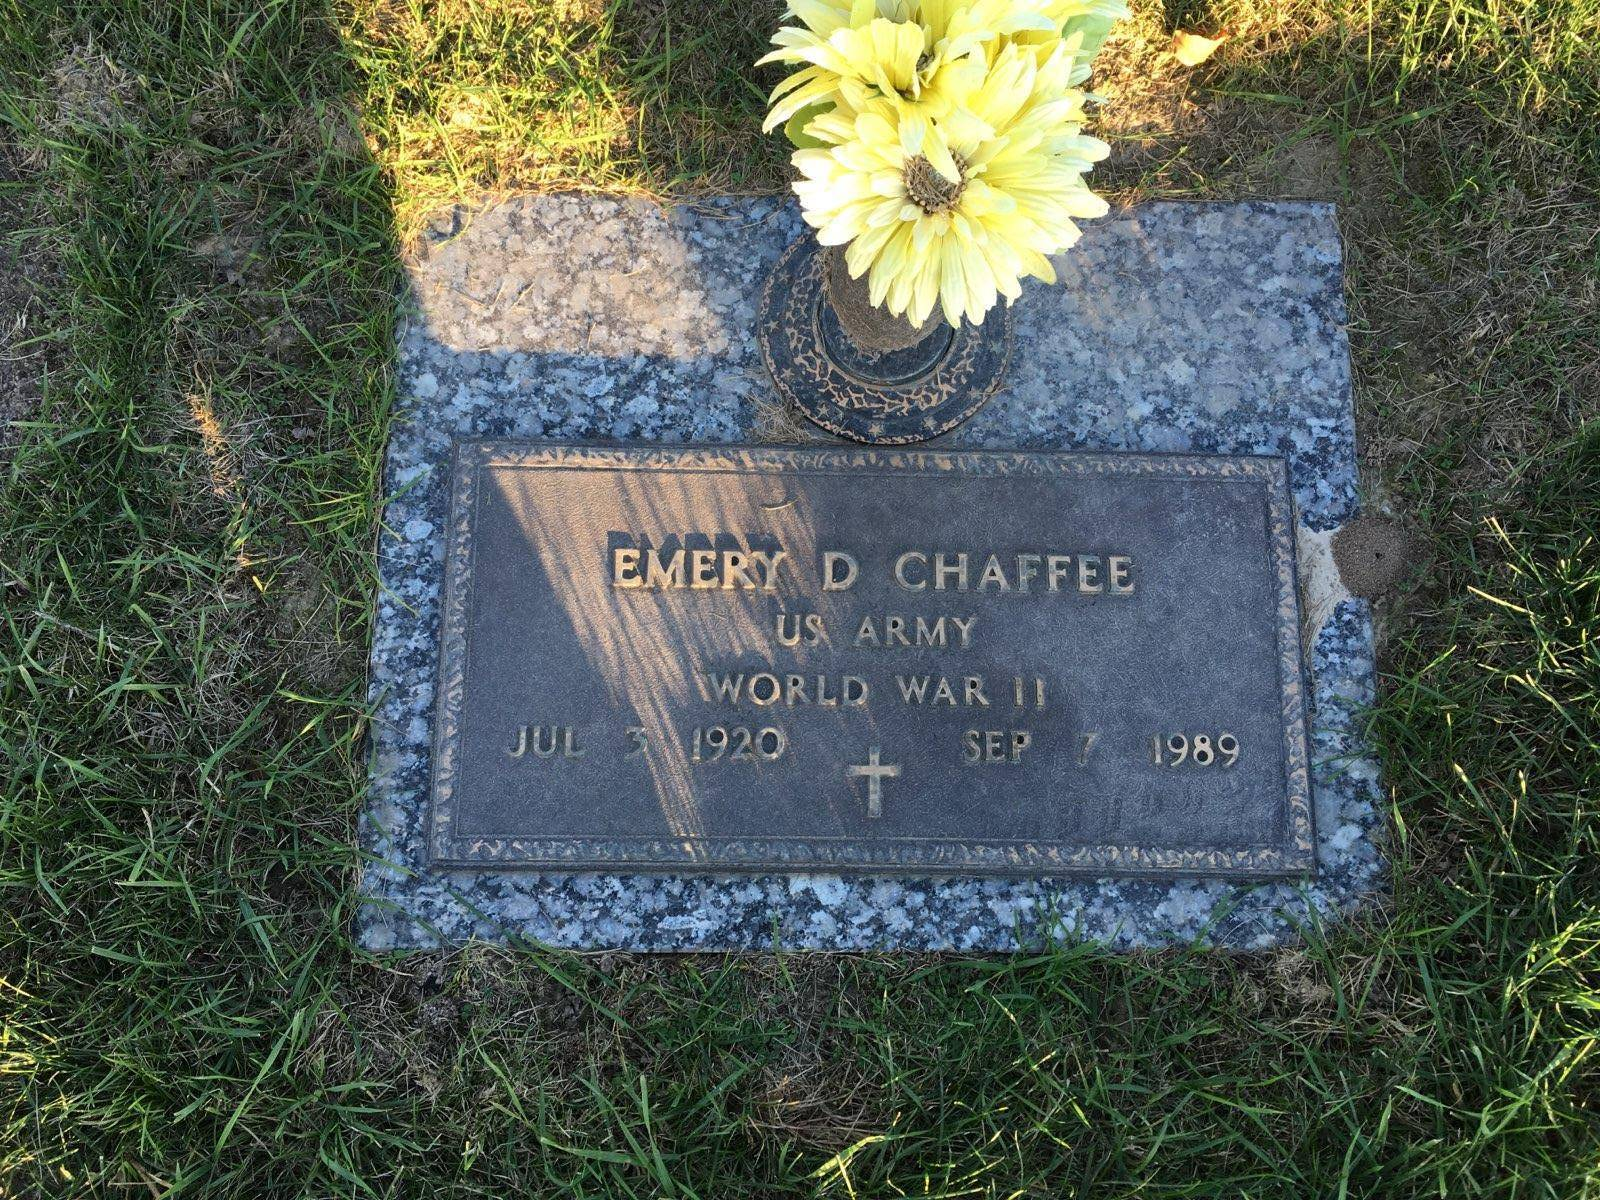flat: (354, 182, 1407, 949)
